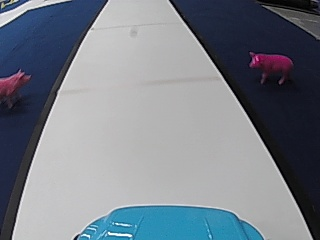pig: (245, 49, 293, 84), (1, 66, 32, 109)
